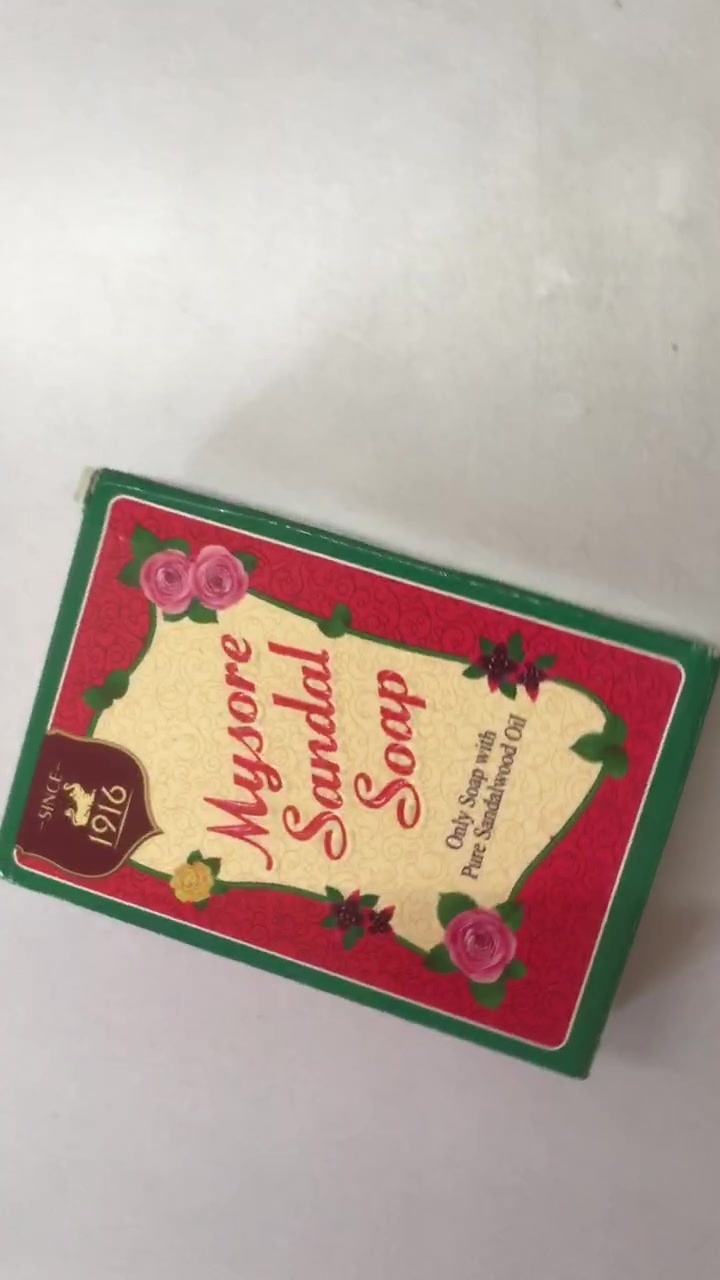mysore sandal soap: (3, 466, 720, 1083)
